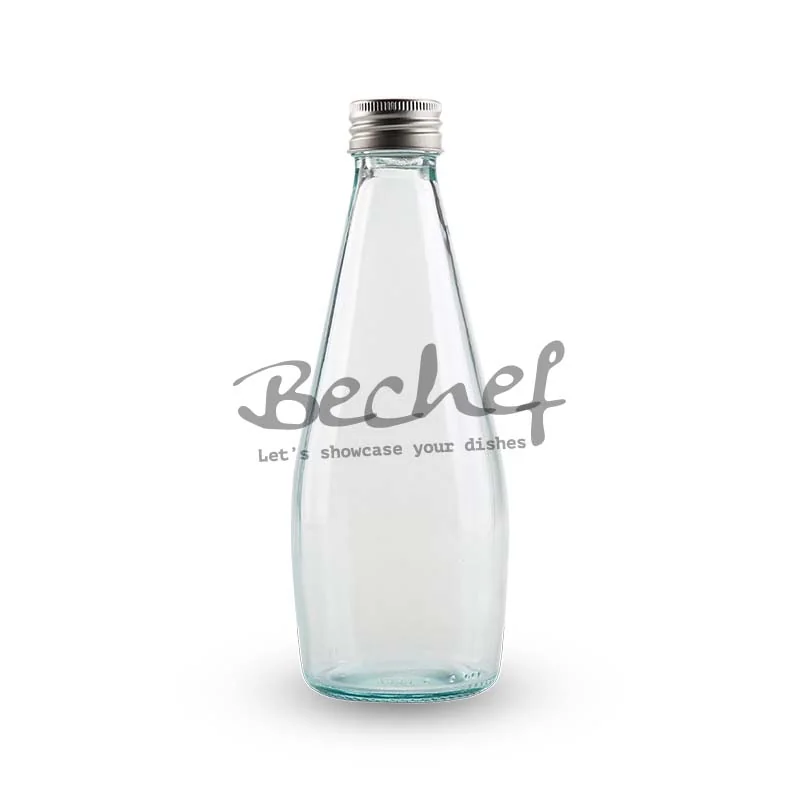glass_bottle: (279, 82, 529, 720)
